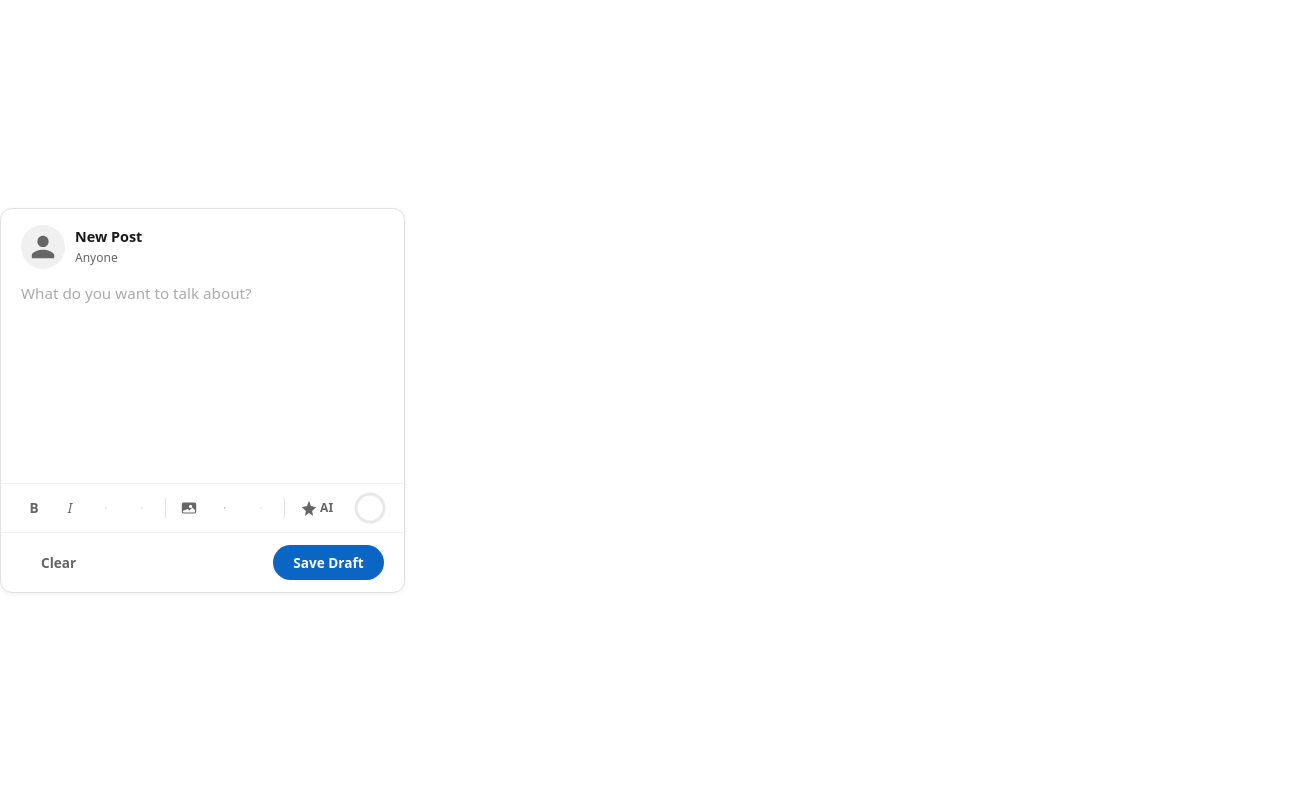
Test: PostComposer › toggles AI panel when AI button is clicked
Check: the text "Generate Post" is not shown
// Click to show
Click the button titled "AI tools".
click(317, 508)  # box x1=291 y1=490 x2=344 y2=524
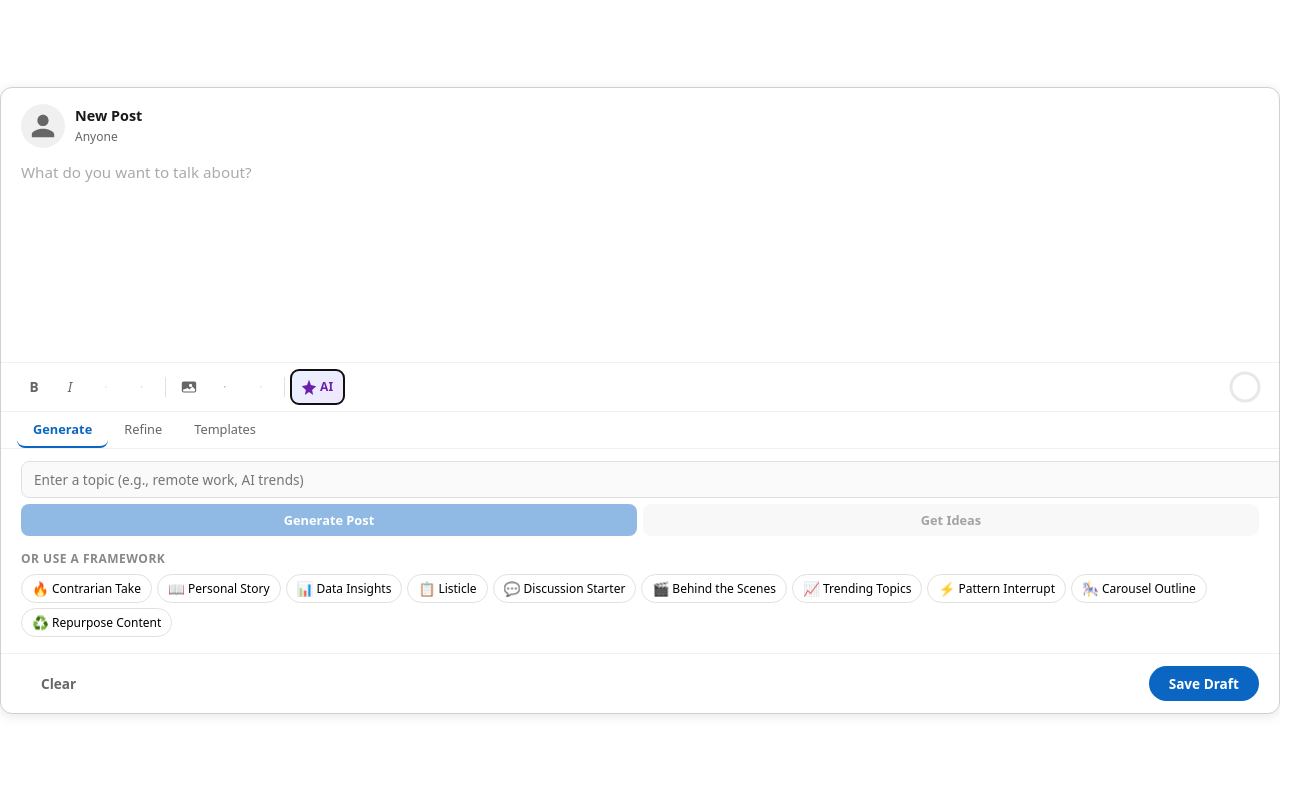
Check: the button "Generate Post" is shown, box x1=21 y1=504 x2=637 y2=536
// Click to hide
Click the button titled "AI tools".
click(317, 386)  # box x1=291 y1=370 x2=344 y2=404
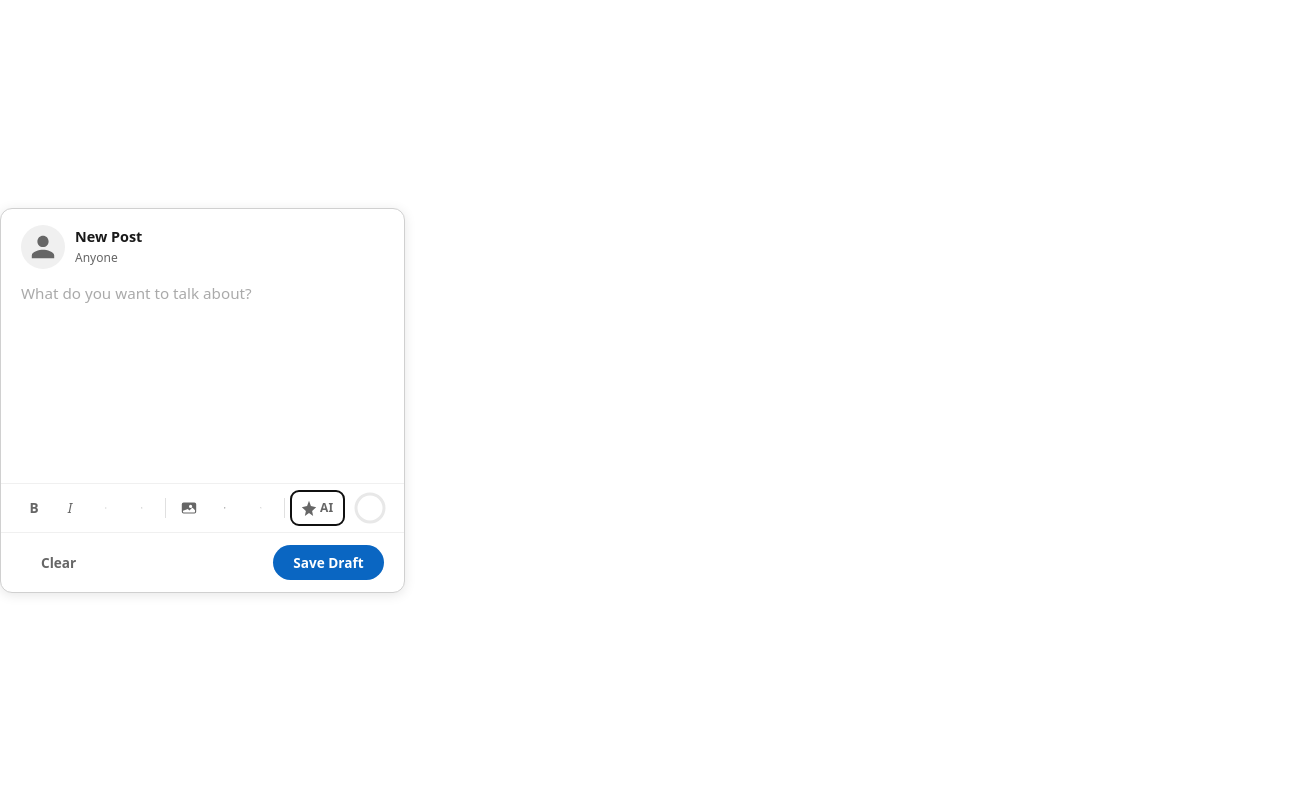
Check: the button "Generate Post" is gone
